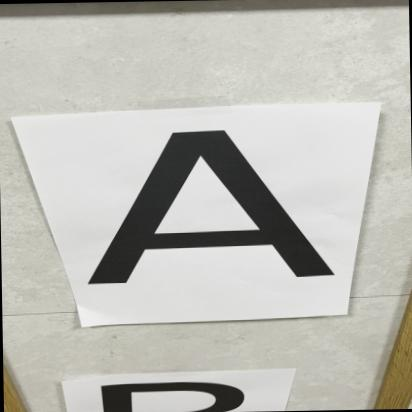seat: (80, 121, 320, 295)
